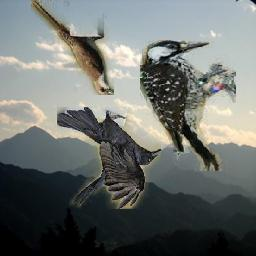Crow: (57, 107, 161, 209)
Cuckoo: (32, 1, 115, 96)
Woodpecker: (140, 41, 236, 172)
